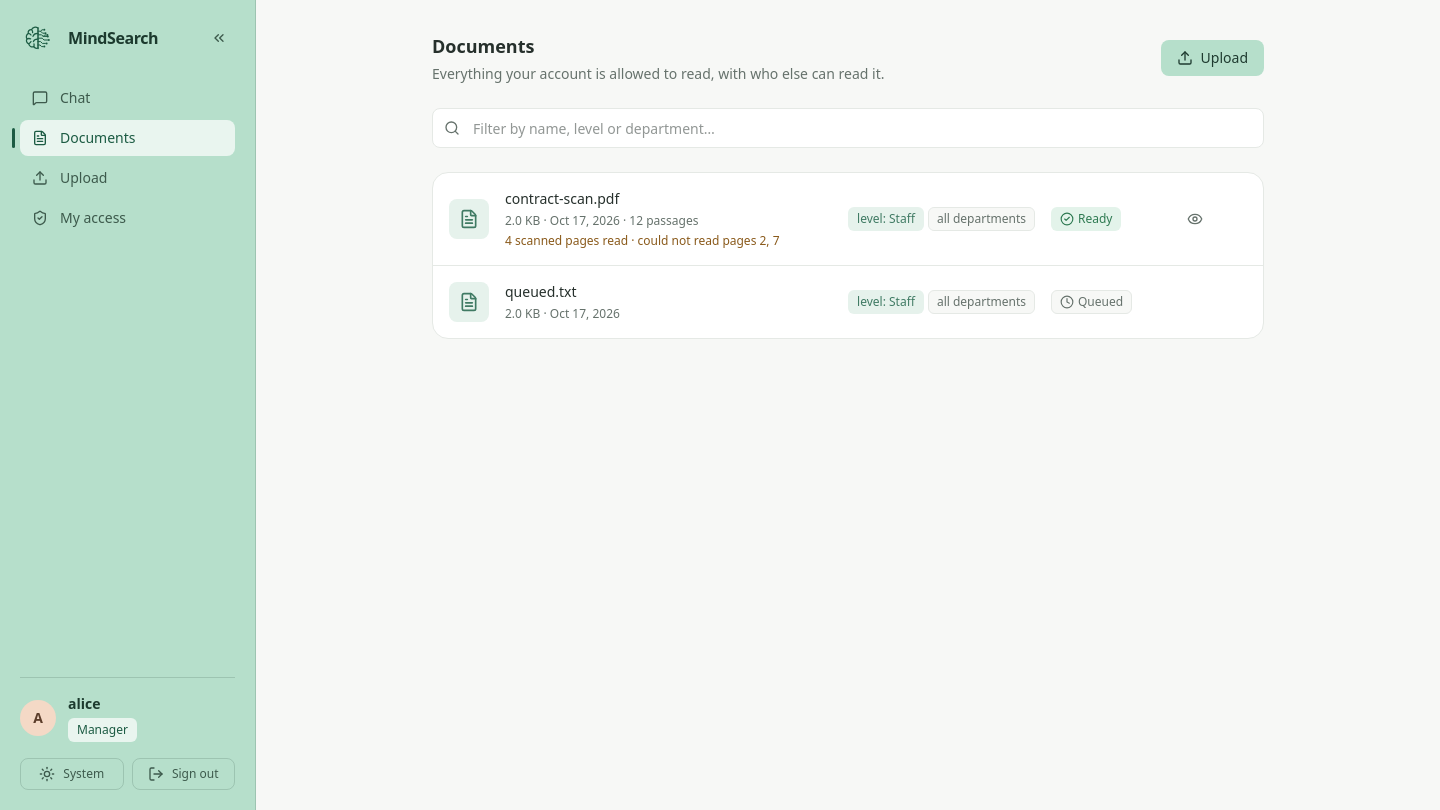
Test: documents › says which scanned pages were read and which could not be, and opens a document's text from its start
Expected: the text "4 scanned pages read · could not read pages 2, 7" is shown, 505,232 -> 780,249
Step 1. Click the button named "View contract-scan.pdf" → (1195, 219), box 1179,203 -> 1211,235
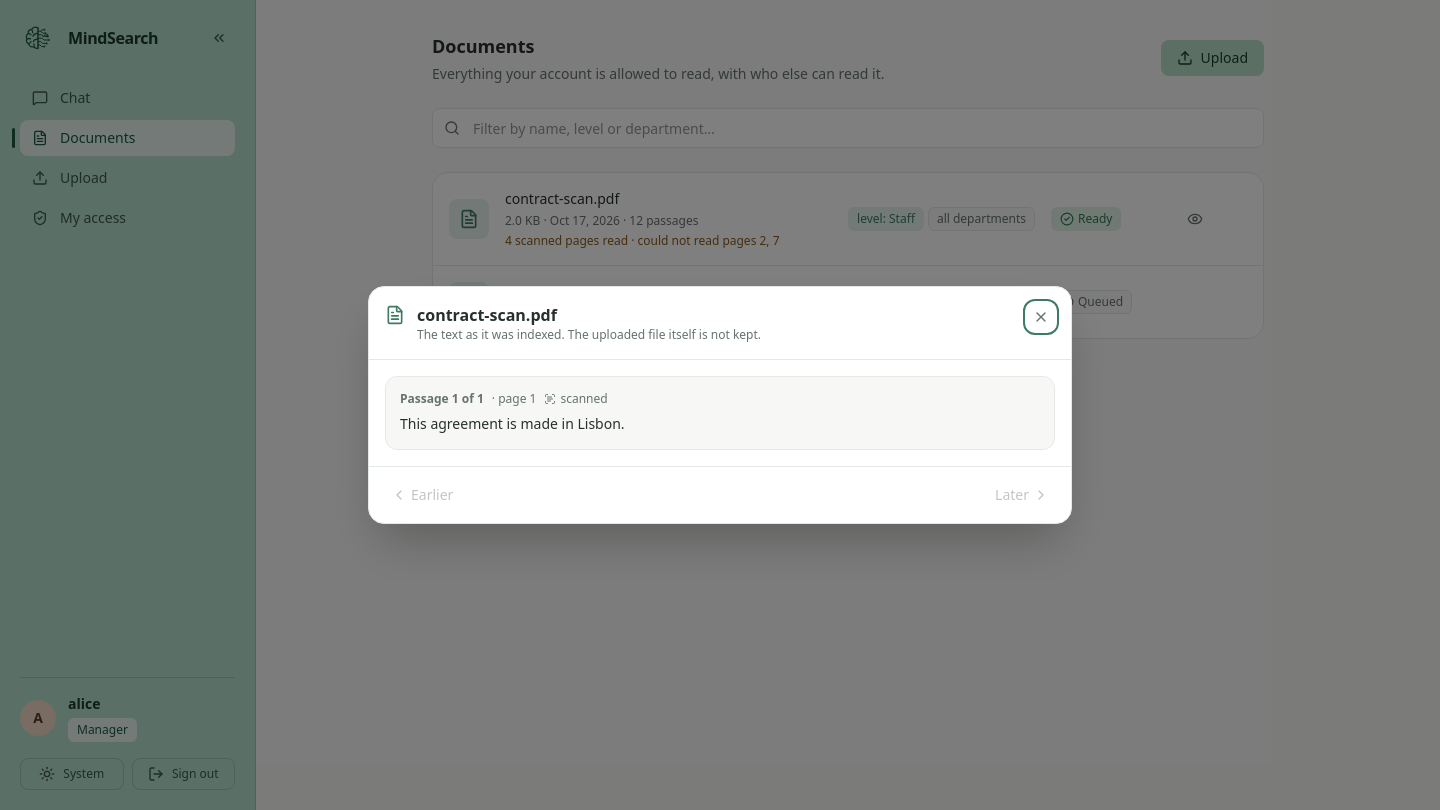
Expected: the text "This agreement is made in Lisbon." is shown, 400,414 -> 625,433
